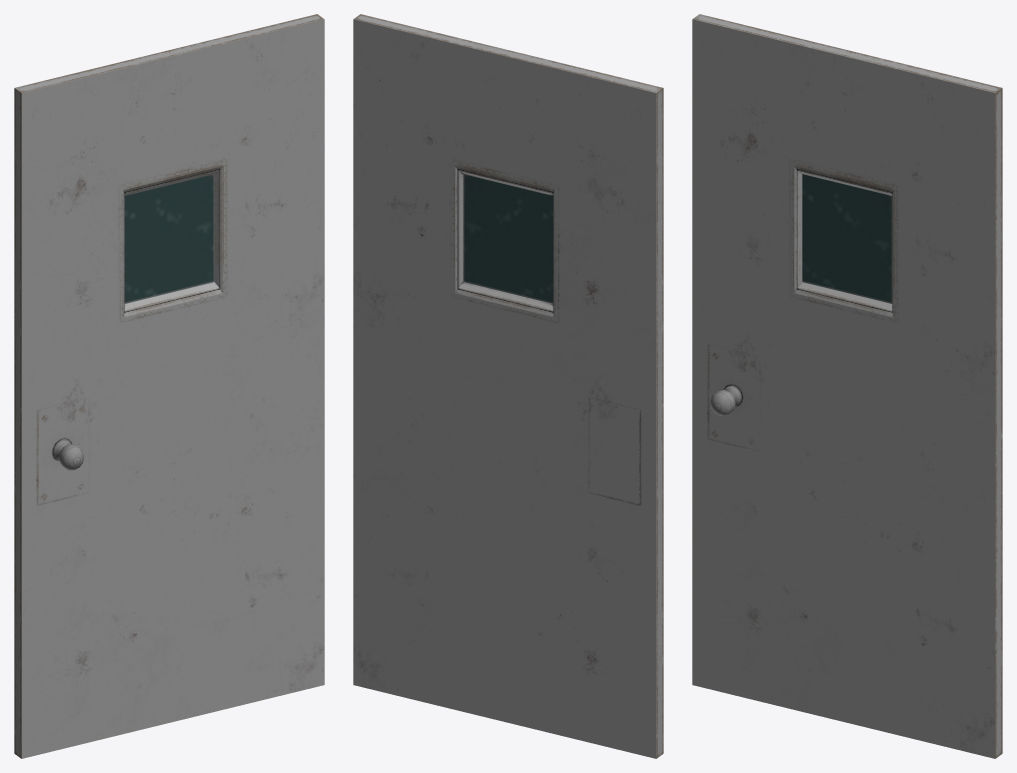
File: door.fbx
3 renders of one model, left to right at view 1: azimuth 30°, elevation 25°; view 2: azimuth 150°, elevation 25°; view 3: azimuth 330°, elevation 25°, orthographic.
Visible parts, largest first — view 1: Cube; view 2: Cube; view 3: Cube.
Part boxes in pixels (x1,y1,x2,y2): Cube: (14, 14, 324, 758); Cube: (353, 14, 663, 758); Cube: (692, 14, 1002, 758).
Bounding box in the file's own units: 95.24 × 200 × 12.3.
